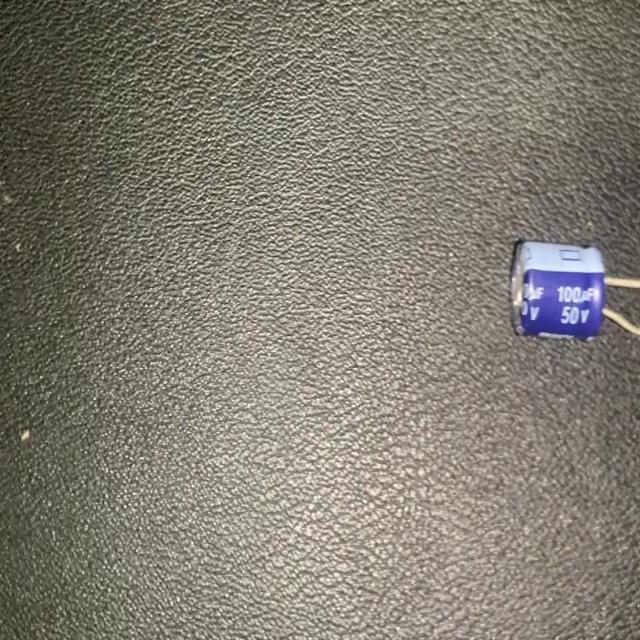capacitor: (506, 233, 640, 352)
